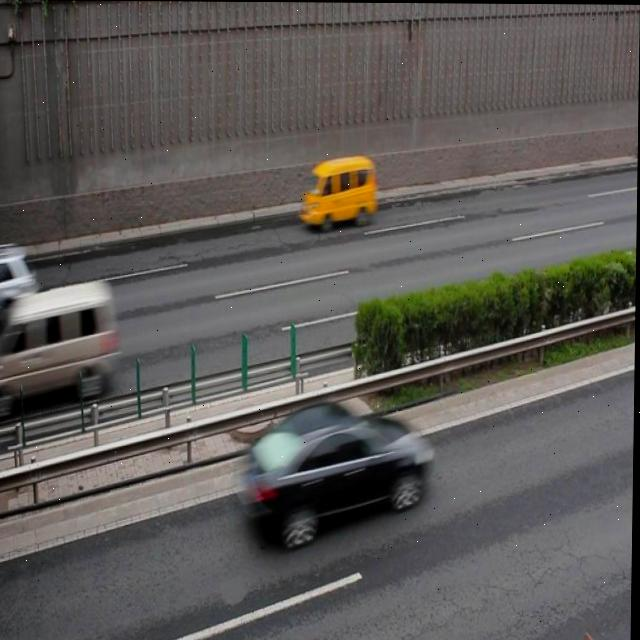car: (239, 401, 431, 546)
truck: (11, 277, 117, 415), (301, 153, 376, 231)
